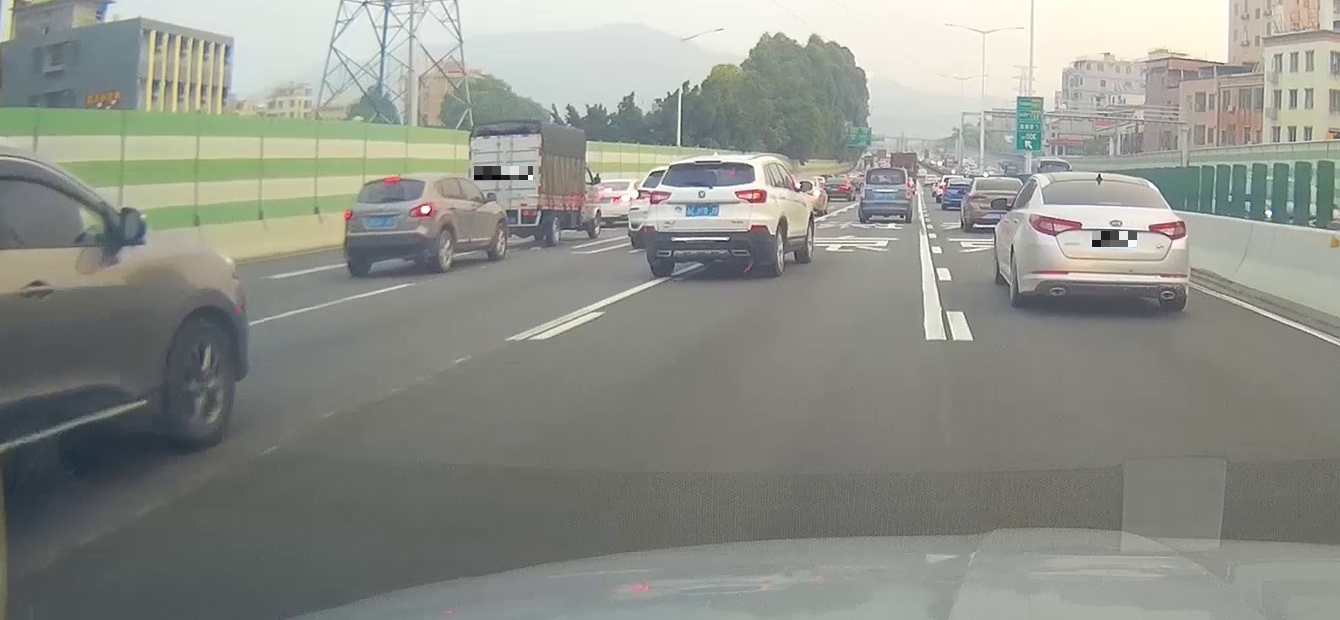L_light: (1029, 214, 1082, 236), (650, 190, 672, 204), (344, 210, 356, 220), (860, 183, 865, 198)
R_light: (1148, 220, 1187, 240), (734, 188, 768, 204), (409, 202, 434, 217), (905, 182, 911, 198)
T_light: (1092, 201, 1122, 206), (695, 160, 722, 164), (384, 177, 400, 182), (881, 168, 892, 171)
day-no: (1025, 172, 1189, 310), (859, 167, 912, 222)
day-right: (647, 155, 772, 276), (343, 174, 437, 276)
plate_1: (474, 166, 533, 180)
plate_2: (1092, 231, 1137, 247)
